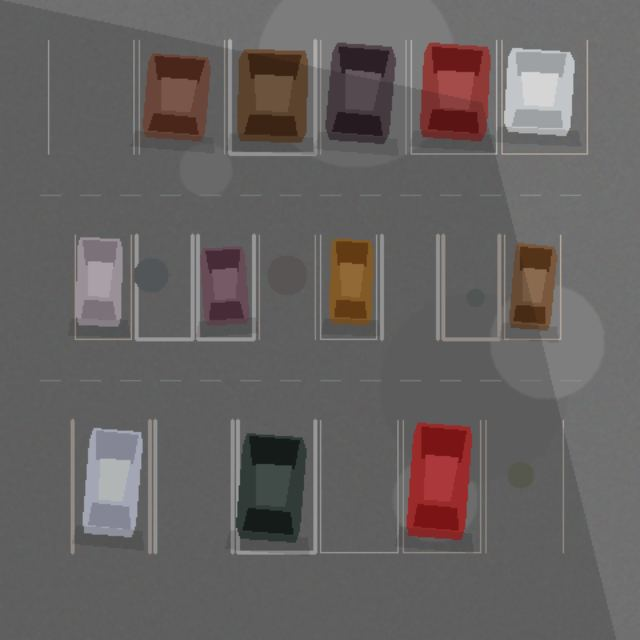space-empty: (485, 420, 563, 552), (155, 420, 232, 552), (320, 420, 397, 552), (48, 40, 133, 153), (136, 235, 192, 339), (259, 235, 315, 339), (381, 235, 437, 339), (443, 235, 499, 339)
space-occupied: (237, 420, 315, 552), (72, 420, 149, 552), (403, 420, 480, 552), (229, 40, 315, 153), (501, 40, 587, 153), (139, 40, 224, 153), (320, 40, 405, 153), (411, 40, 496, 153), (75, 235, 131, 339), (197, 235, 253, 339), (320, 235, 376, 339), (504, 235, 560, 339)
